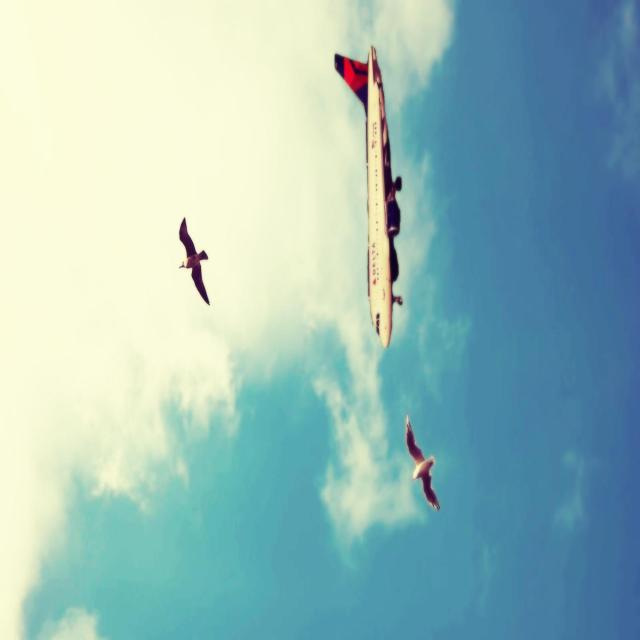airplane: (334, 44, 404, 348)
